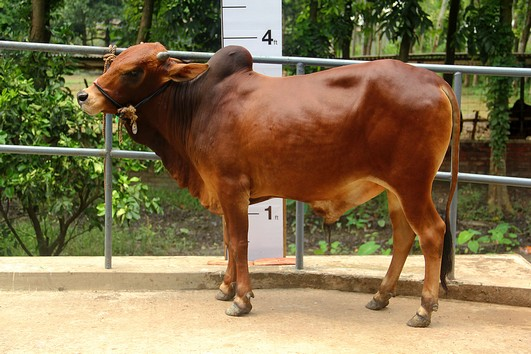cow: (69, 33, 464, 341)
